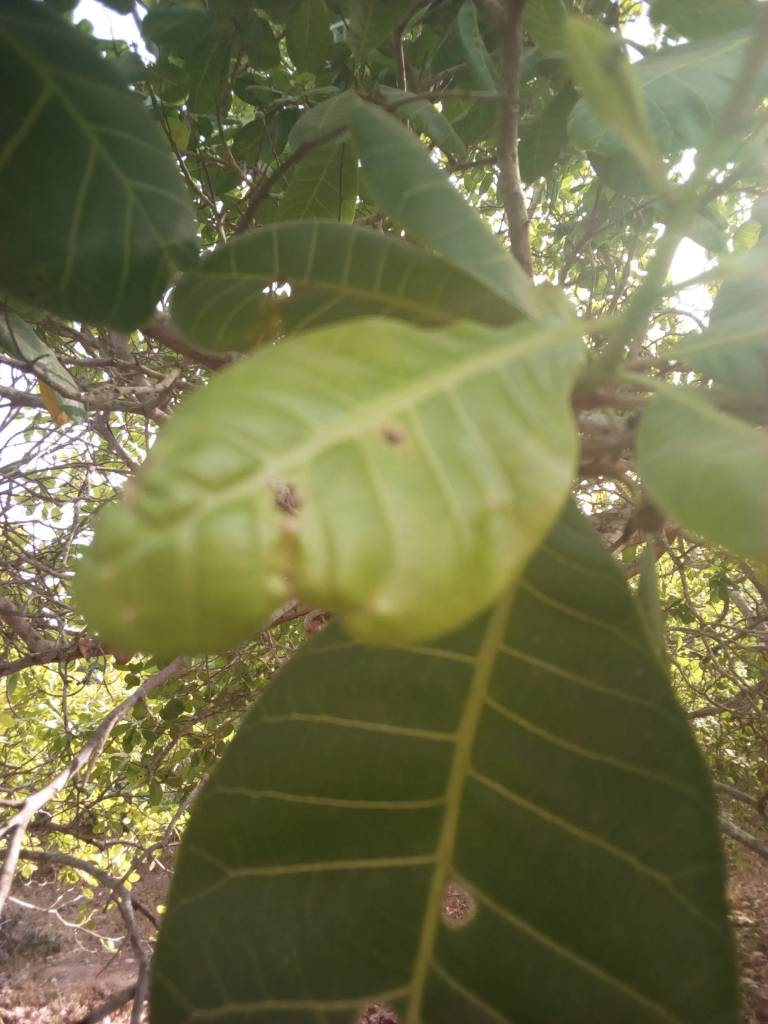Helopeltis anacardii: (77, 314, 585, 667)
